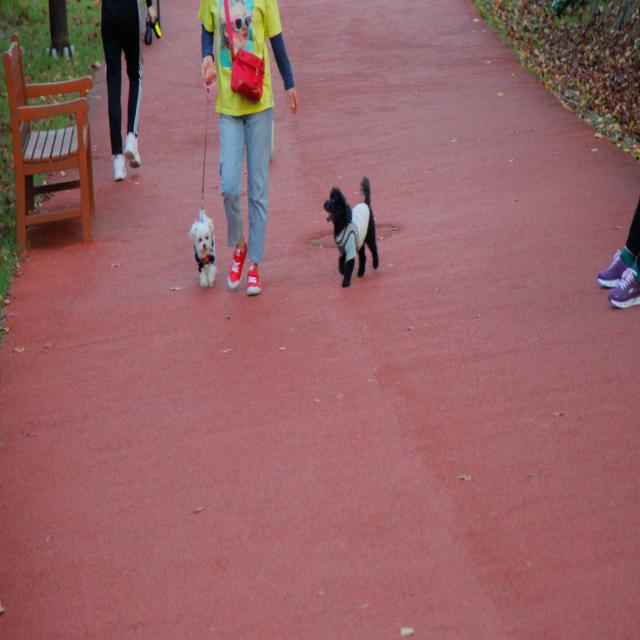Leashed_Dog: (188, 59, 239, 288)
Unleashed_Dog: (249, 111, 379, 290)
